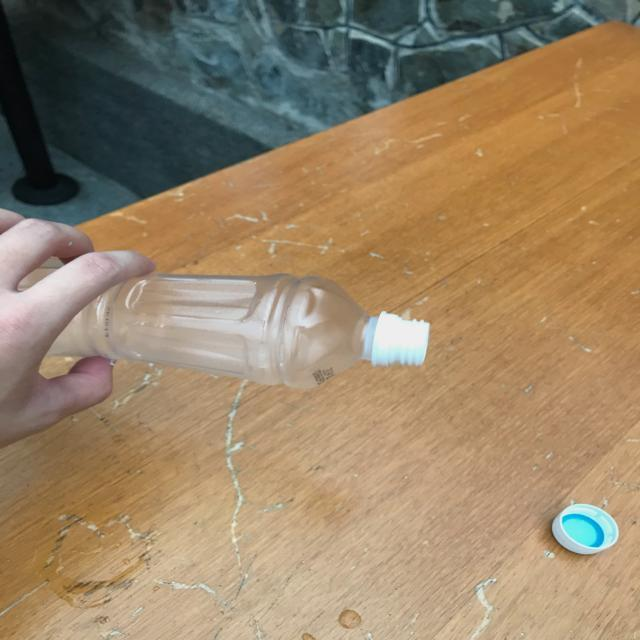plastic_bottle: (0, 266, 495, 388)
